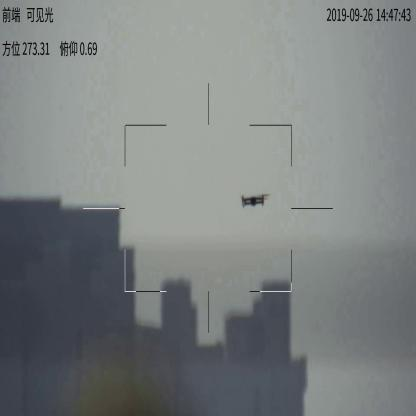uav: (238, 192, 272, 208)
